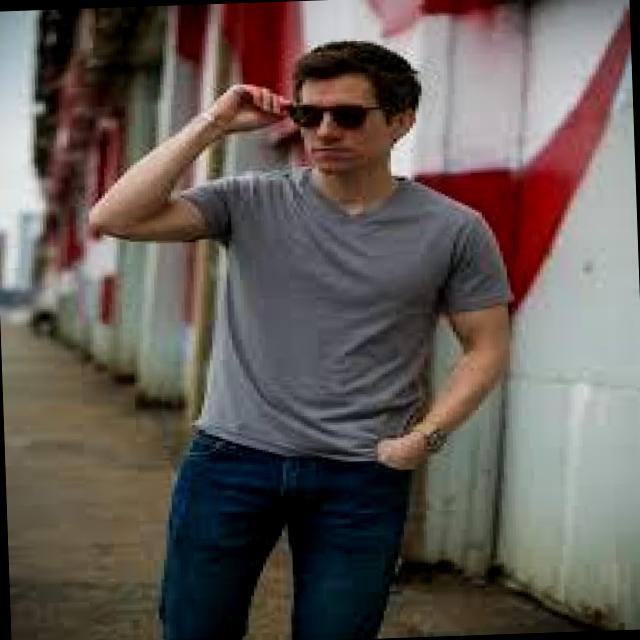Tshirt: (158, 168, 524, 466)
